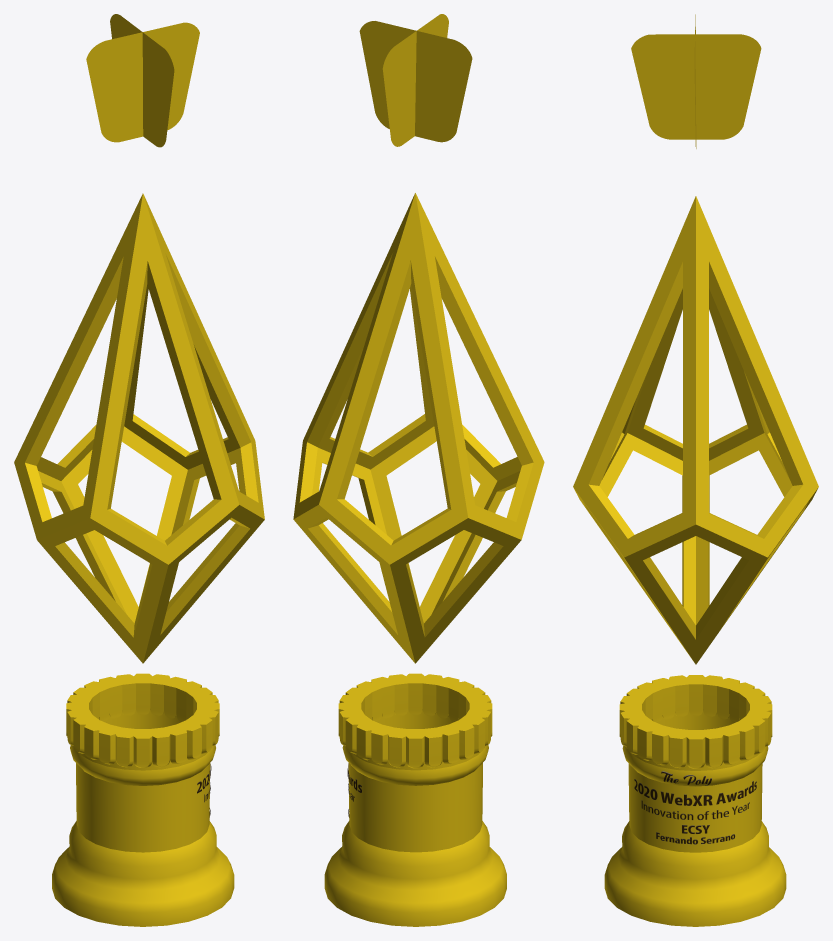
Rendered from 16ae2b7e-6711-4841-bd19-ebdcce8d95c6_IOTY.glb.
3 views of the same model, side by side, from view 1: azimuth 30°, elevation 25°; view 2: azimuth 150°, elevation 25°; view 3: azimuth 270°, elevation 25° (orthographic).
Visible parts, largest first — view 1: Diamond, Base, Crown; view 2: Diamond, Base, Crown; view 3: Diamond, Base, Crown, Engravings.
Boxes of the visible parts, bbox=[...] form: Diamond: bbox=[14, 193, 264, 663]; Base: bbox=[52, 673, 234, 926]; Crown: bbox=[86, 14, 199, 147]; Diamond: bbox=[293, 193, 544, 663]; Base: bbox=[324, 673, 506, 926]; Crown: bbox=[359, 14, 472, 146]; Diamond: bbox=[573, 196, 818, 664]; Base: bbox=[604, 675, 786, 926]; Crown: bbox=[631, 14, 761, 148]; Engravings: bbox=[634, 771, 756, 844].
Bounding box in the file's own units: 0.6616 × 2.48 × 0.6471.
Materials: 3 (2 with a texture image).
